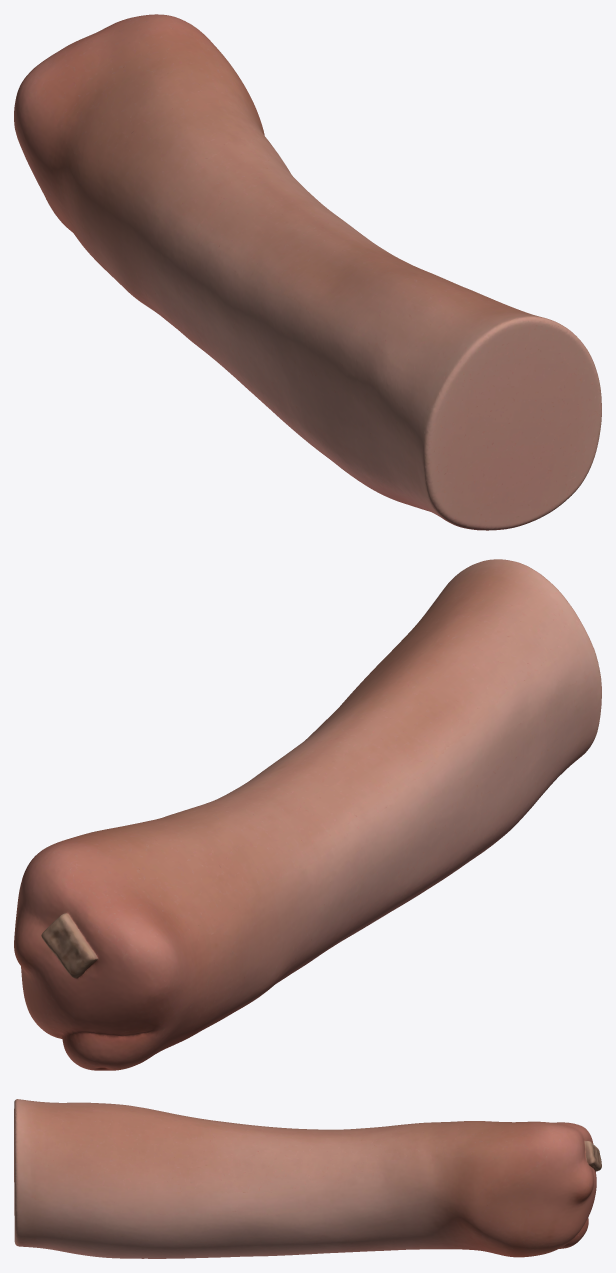
The model's file is limb-generated.glb.
3 renders of one model, top to bottom at view 1: azimuth 30°, elevation 25°; view 2: azimuth 150°, elevation 25°; view 3: azimuth 270°, elevation 25°, orthographic. The views are drawn at different scales.
Parts seen in each view (by area): view 1: geometry_0; view 2: geometry_0; view 3: geometry_0.
Boxes of the visible parts, x1,y1,x2,y2 form: geometry_0: (14,14,601,530); geometry_0: (14,559,601,1070); geometry_0: (14,1099,601,1258).
Size of the model in its own units: 0.2504 by 0.2824 by 1.
1 material, 1 textured.
